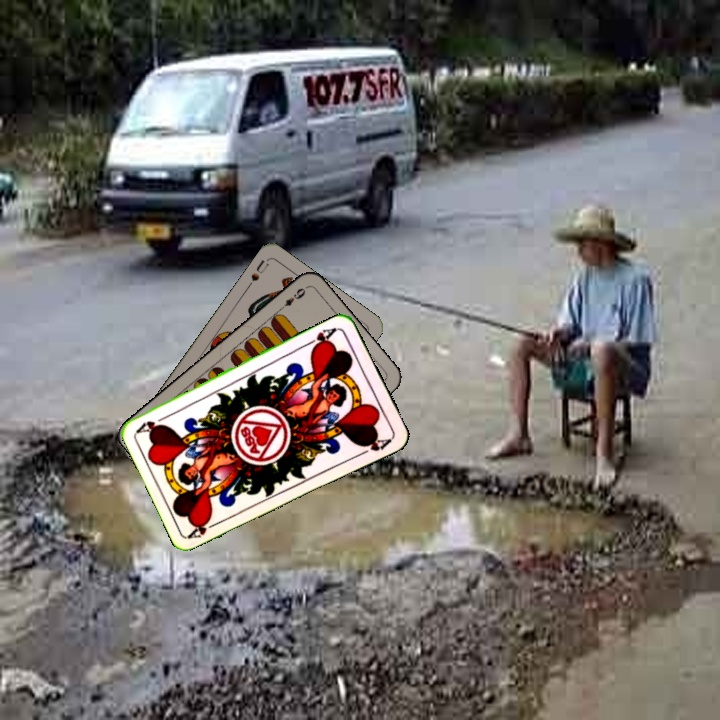E9: (275, 284, 308, 313)
HA: (303, 323, 341, 353), (185, 514, 224, 541)
SU: (243, 256, 271, 291)
